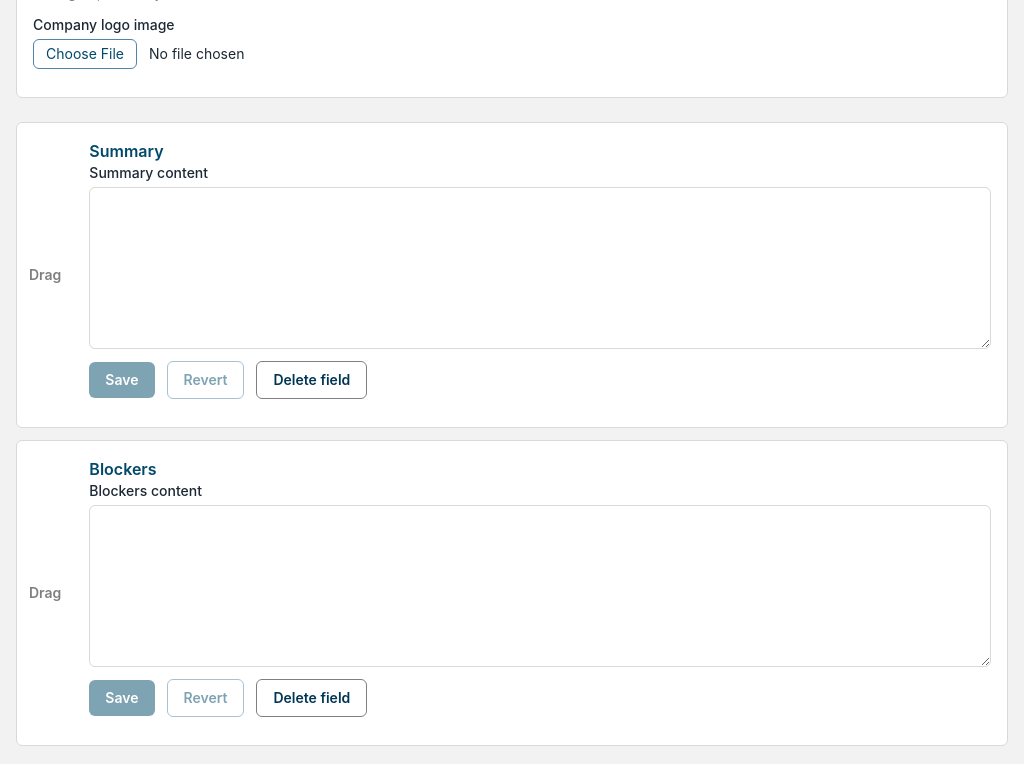
ReportDetailPage › removes a deleted field from the list
(page scrolled)
Click the button "Delete field" below "Summary content". click: [312, 380]
box: [256,361,367,399]
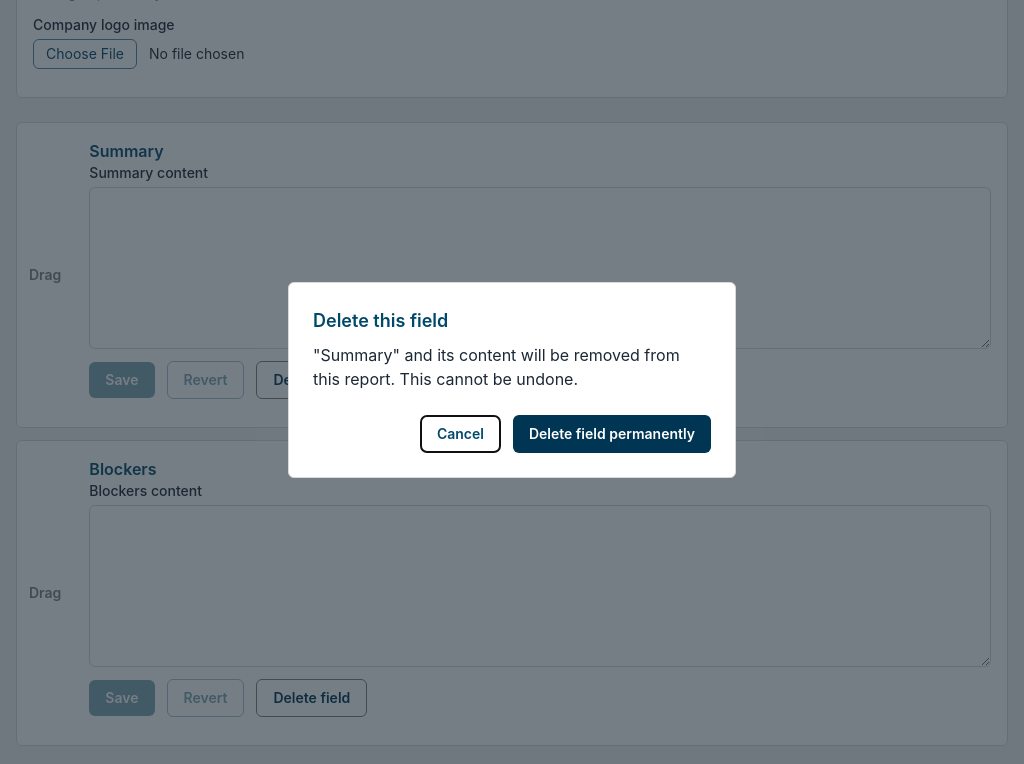
Click the button "Delete field permanently". click: [612, 434]
box: [513,415,711,453]
(page scrolled)
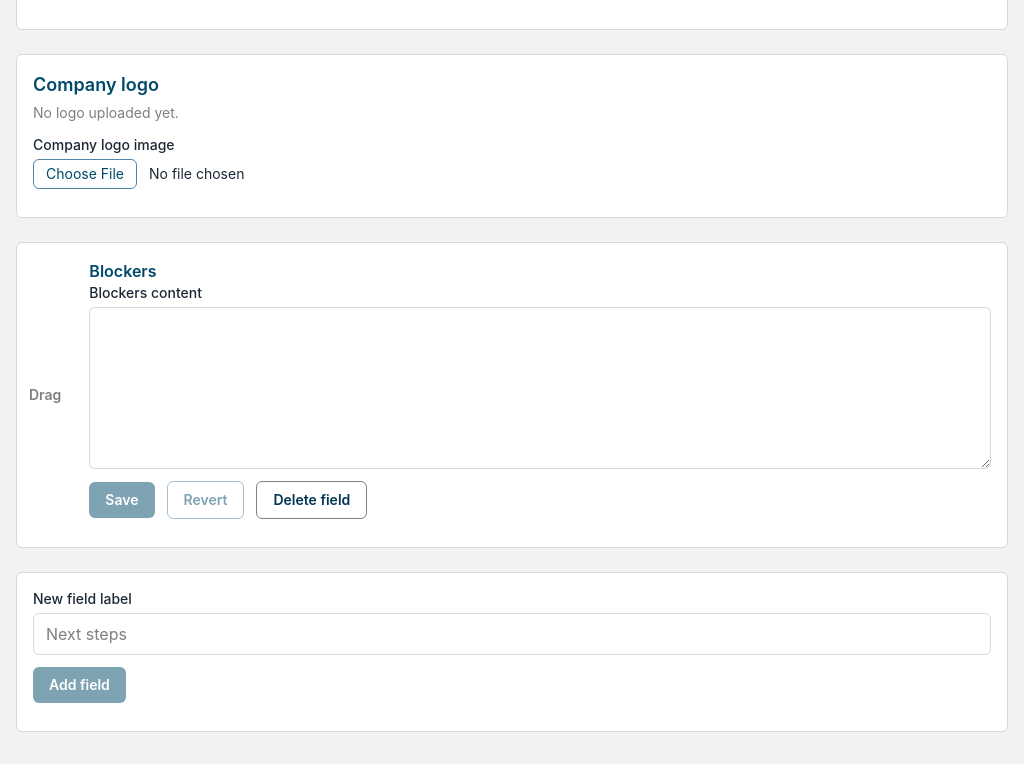
Now the elements with test id "field-label" read "Blockers", in this order, box [89,259,156,283]
